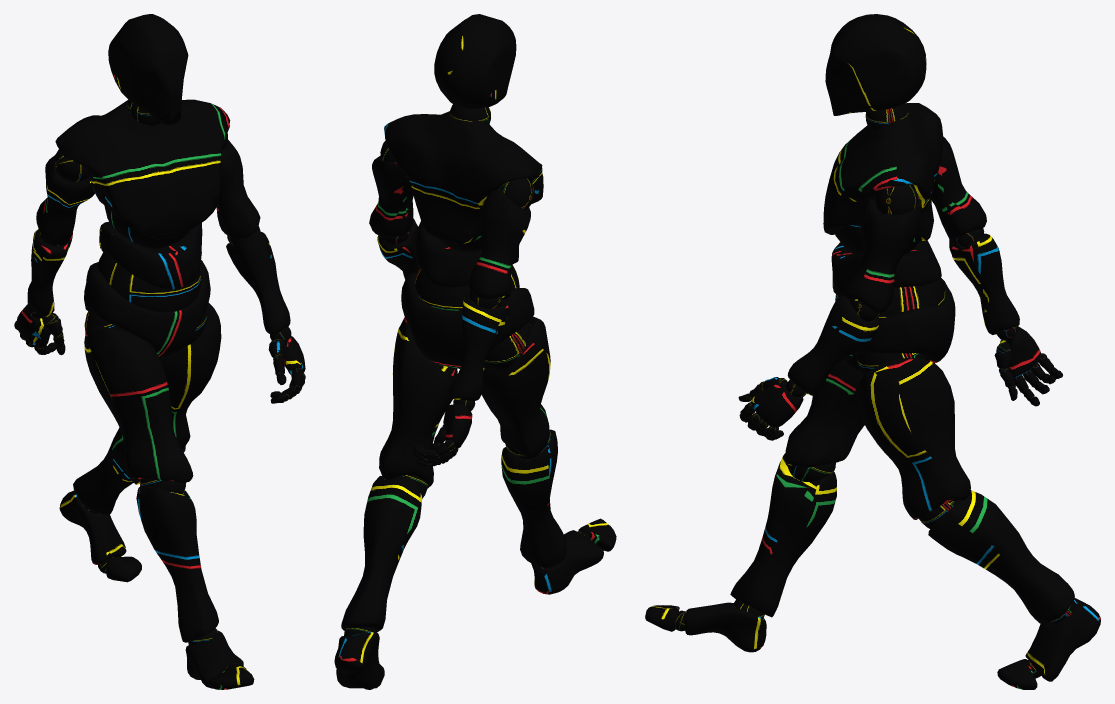
The model's file is y-bot-origin_000007.obj.
3 views of the same model, side by side, from view 1: azimuth 30°, elevation 25°; view 2: azimuth 150°, elevation 25°; view 3: azimuth 270°, elevation 25° (orthographic). The views are drawn at different scales.
Visible parts, largest first — view 1: Alpha_Surface_Alpha_SurfaceMesh, Alpha_Joints_Alpha_JointsMesh; view 2: Alpha_Surface_Alpha_SurfaceMesh, Alpha_Joints_Alpha_JointsMesh; view 3: Alpha_Surface_Alpha_SurfaceMesh, Alpha_Joints_Alpha_JointsMesh.
Part boxes in pixels (x1,y1,x2,y2): Alpha_Surface_Alpha_SurfaceMesh: [16, 14, 305, 689]; Alpha_Joints_Alpha_JointsMesh: [14, 100, 305, 669]; Alpha_Surface_Alpha_SurfaceMesh: [334, 14, 616, 688]; Alpha_Joints_Alpha_JointsMesh: [344, 104, 590, 689]; Alpha_Surface_Alpha_SurfaceMesh: [645, 14, 1100, 689]; Alpha_Joints_Alpha_JointsMesh: [674, 104, 1075, 678].
Bounding box in the file's own units: 0.5387 × 1.75 × 1.12.
